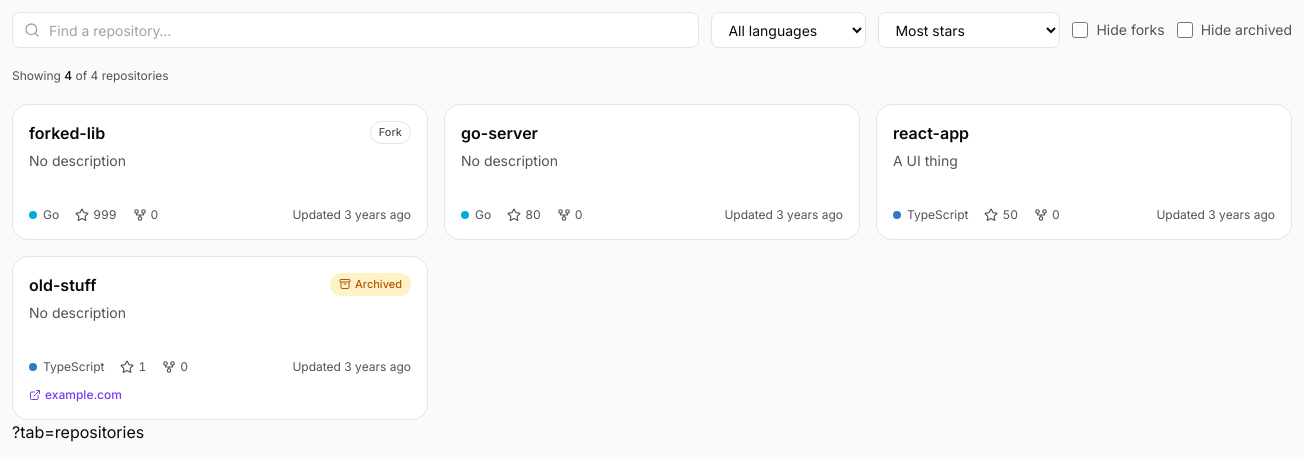
it: RepoExplorer › filters by language and hides forks/archived
Select "Go" in the dropdown named "language" at x=789, y=30, box x1=711 y1=12 x2=866 y2=48
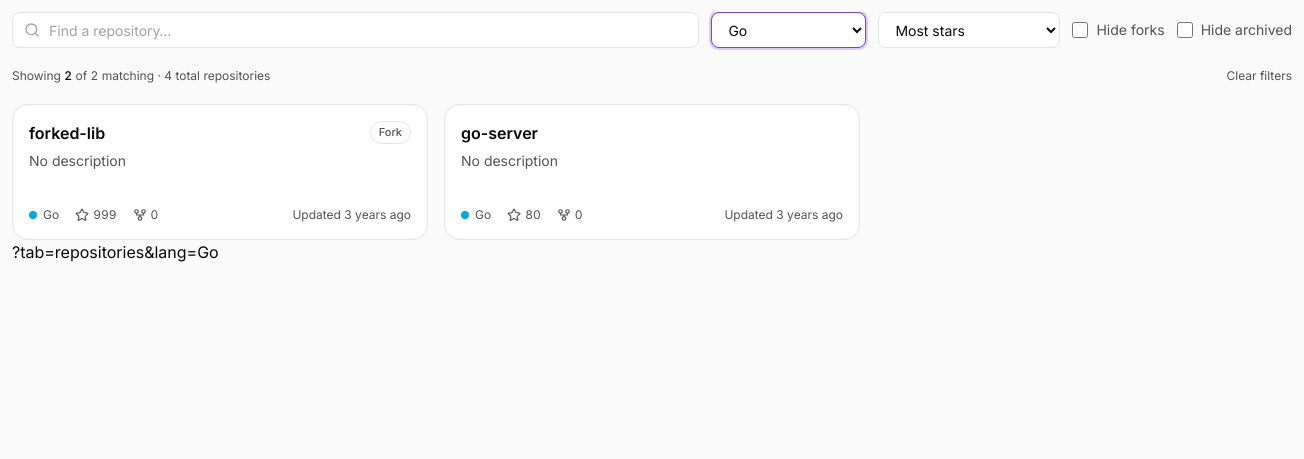
Click the checkbox labelled "Hide forks" at x=1080, y=30, box x1=1072 y1=22 x2=1088 y2=38
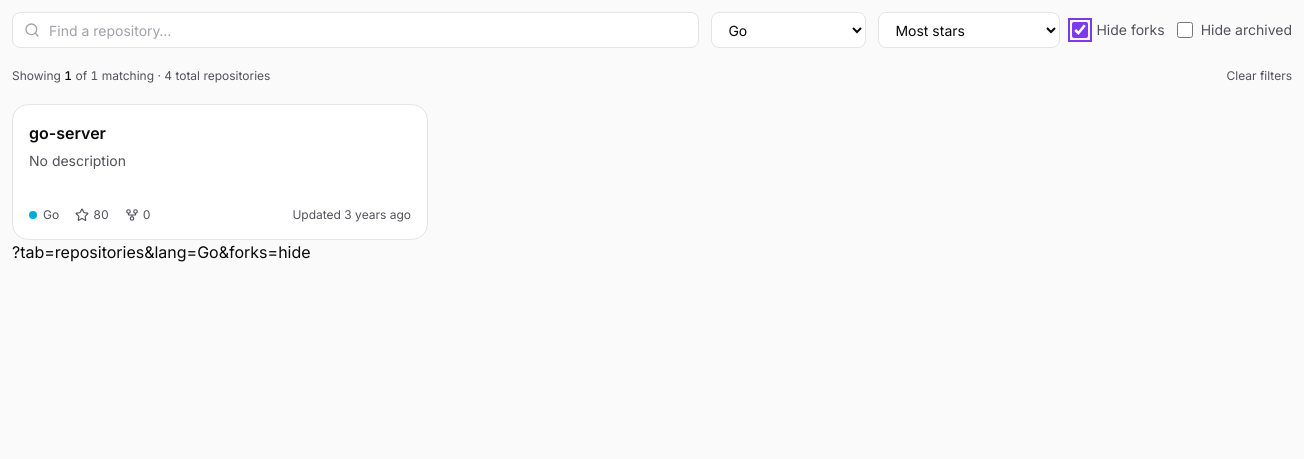
Expected: the text with test id "search" shows "tab=repositories", x1=12 y1=242 x2=311 y2=262
Now the text with test id "search" shows "lang=Go", box x1=12 y1=242 x2=311 y2=262
Now the text with test id "search" shows "forks=hide", box x1=12 y1=242 x2=311 y2=262
